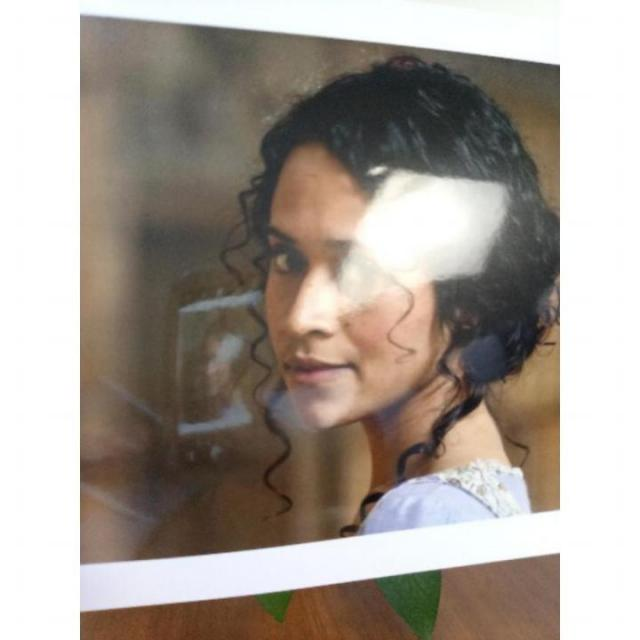photo: (82, 5, 558, 614)
